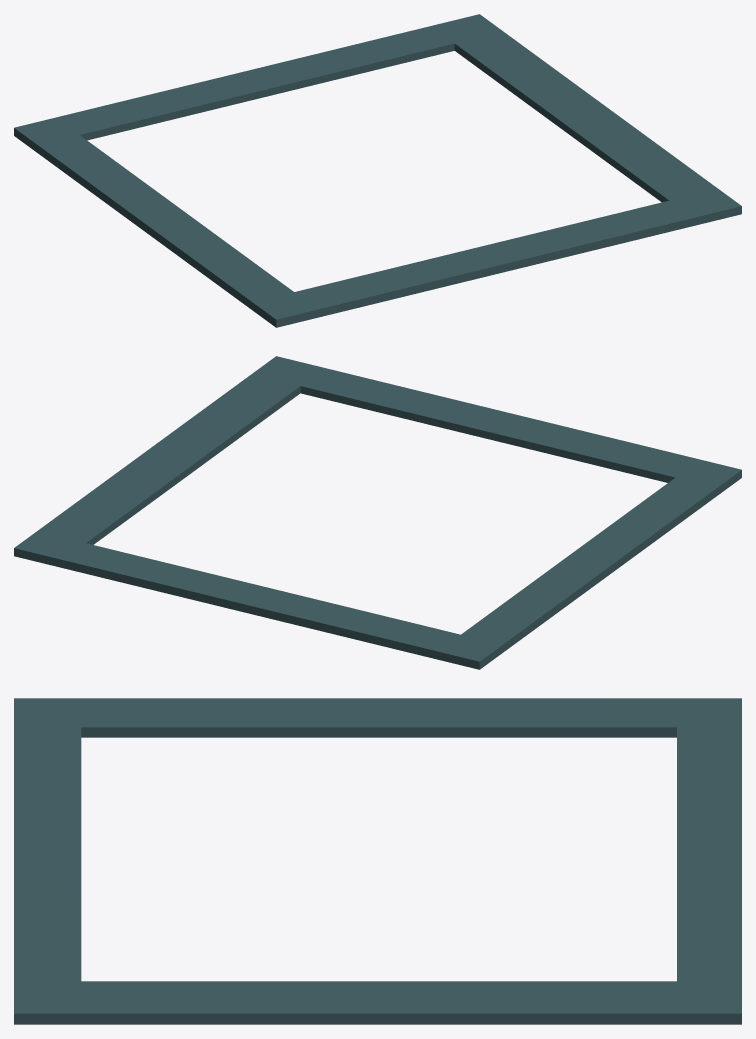
Rendered from Sink_Base.fbx.
The picture shows the model from 3 angles, top to bottom: view 1: azimuth 30°, elevation 25°; view 2: azimuth 150°, elevation 25°; view 3: azimuth 270°, elevation 25°; orthographic projection. The views are drawn at different scales.
Parts seen in each view (by area): view 1: Sink_Base; view 2: Sink_Base; view 3: Sink_Base.
Boxes of the visible parts, bbox=[...] form: Sink_Base: bbox=[14, 14, 741, 327]; Sink_Base: bbox=[14, 356, 741, 669]; Sink_Base: bbox=[14, 698, 741, 1024].
Size of the model in its own units: 412 by 6.89 by 402.
